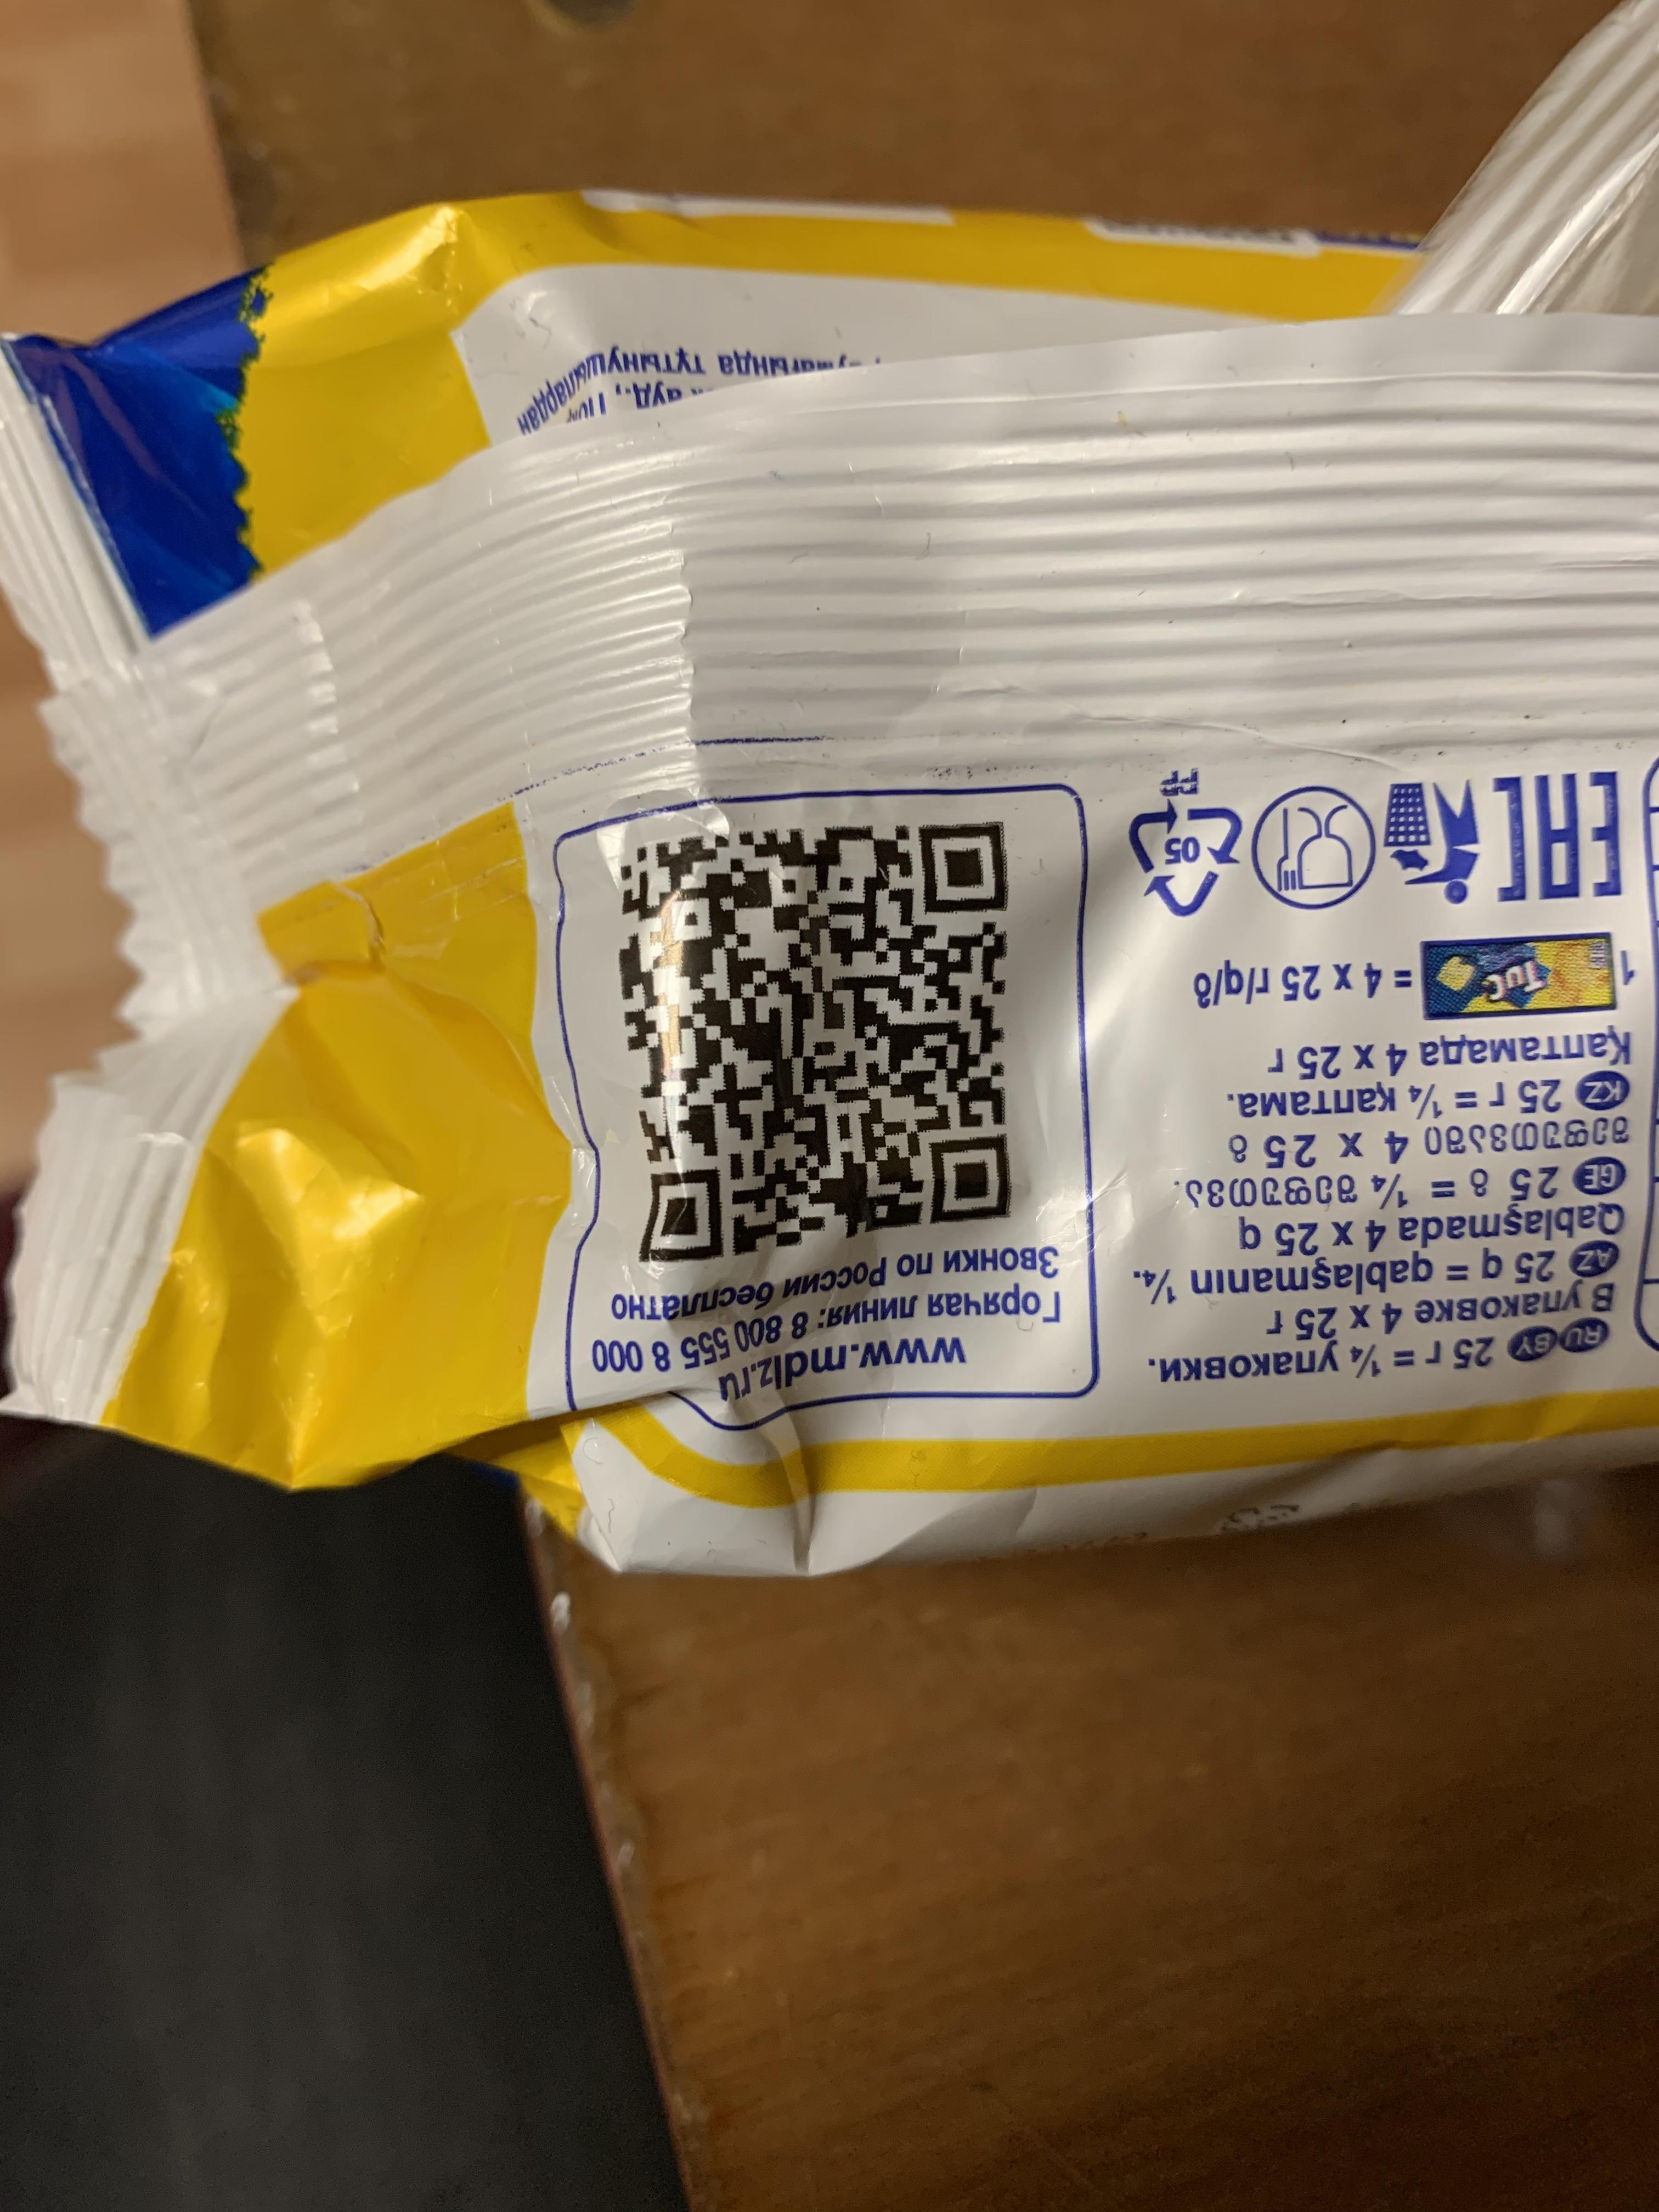qrcode: (615, 824, 1018, 1264)
